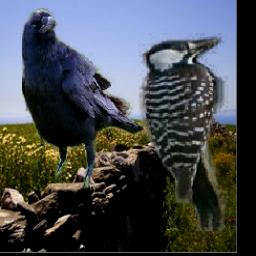Crow: (21, 8, 144, 189)
Woodpecker: (139, 34, 228, 232)
